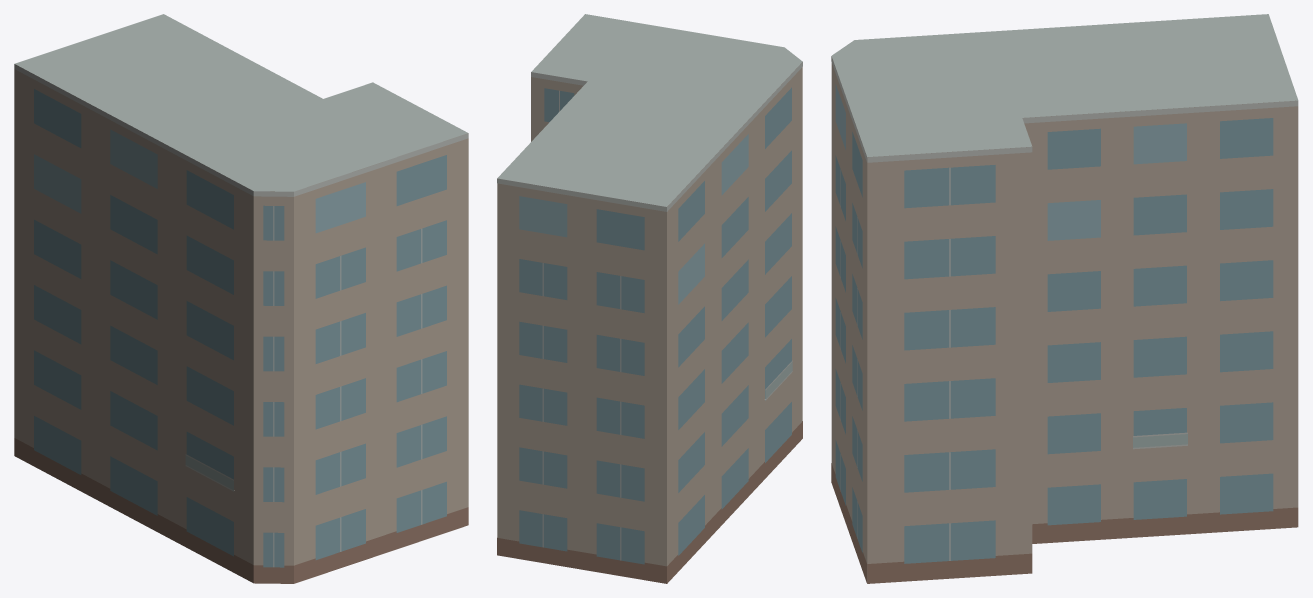
File: survey-upis-32996888.glb
The picture shows the model from 3 angles, left to right: view 1: azimuth 30°, elevation 25°; view 2: azimuth 150°, elevation 25°; view 3: azimuth 270°, elevation 25°; orthographic projection. The views are drawn at different scales.
Visible parts, largest first — view 1: survey-upis-32996888.tmp; view 2: survey-upis-32996888.tmp; view 3: survey-upis-32996888.tmp.
Boxes of the visible parts, bbox=[...] form: survey-upis-32996888.tmp: bbox=[14, 14, 468, 583]; survey-upis-32996888.tmp: bbox=[497, 14, 802, 583]; survey-upis-32996888.tmp: bbox=[831, 14, 1298, 583].
Bounding box in the file's own units: 13.25 × 18.4 × 18.26.
